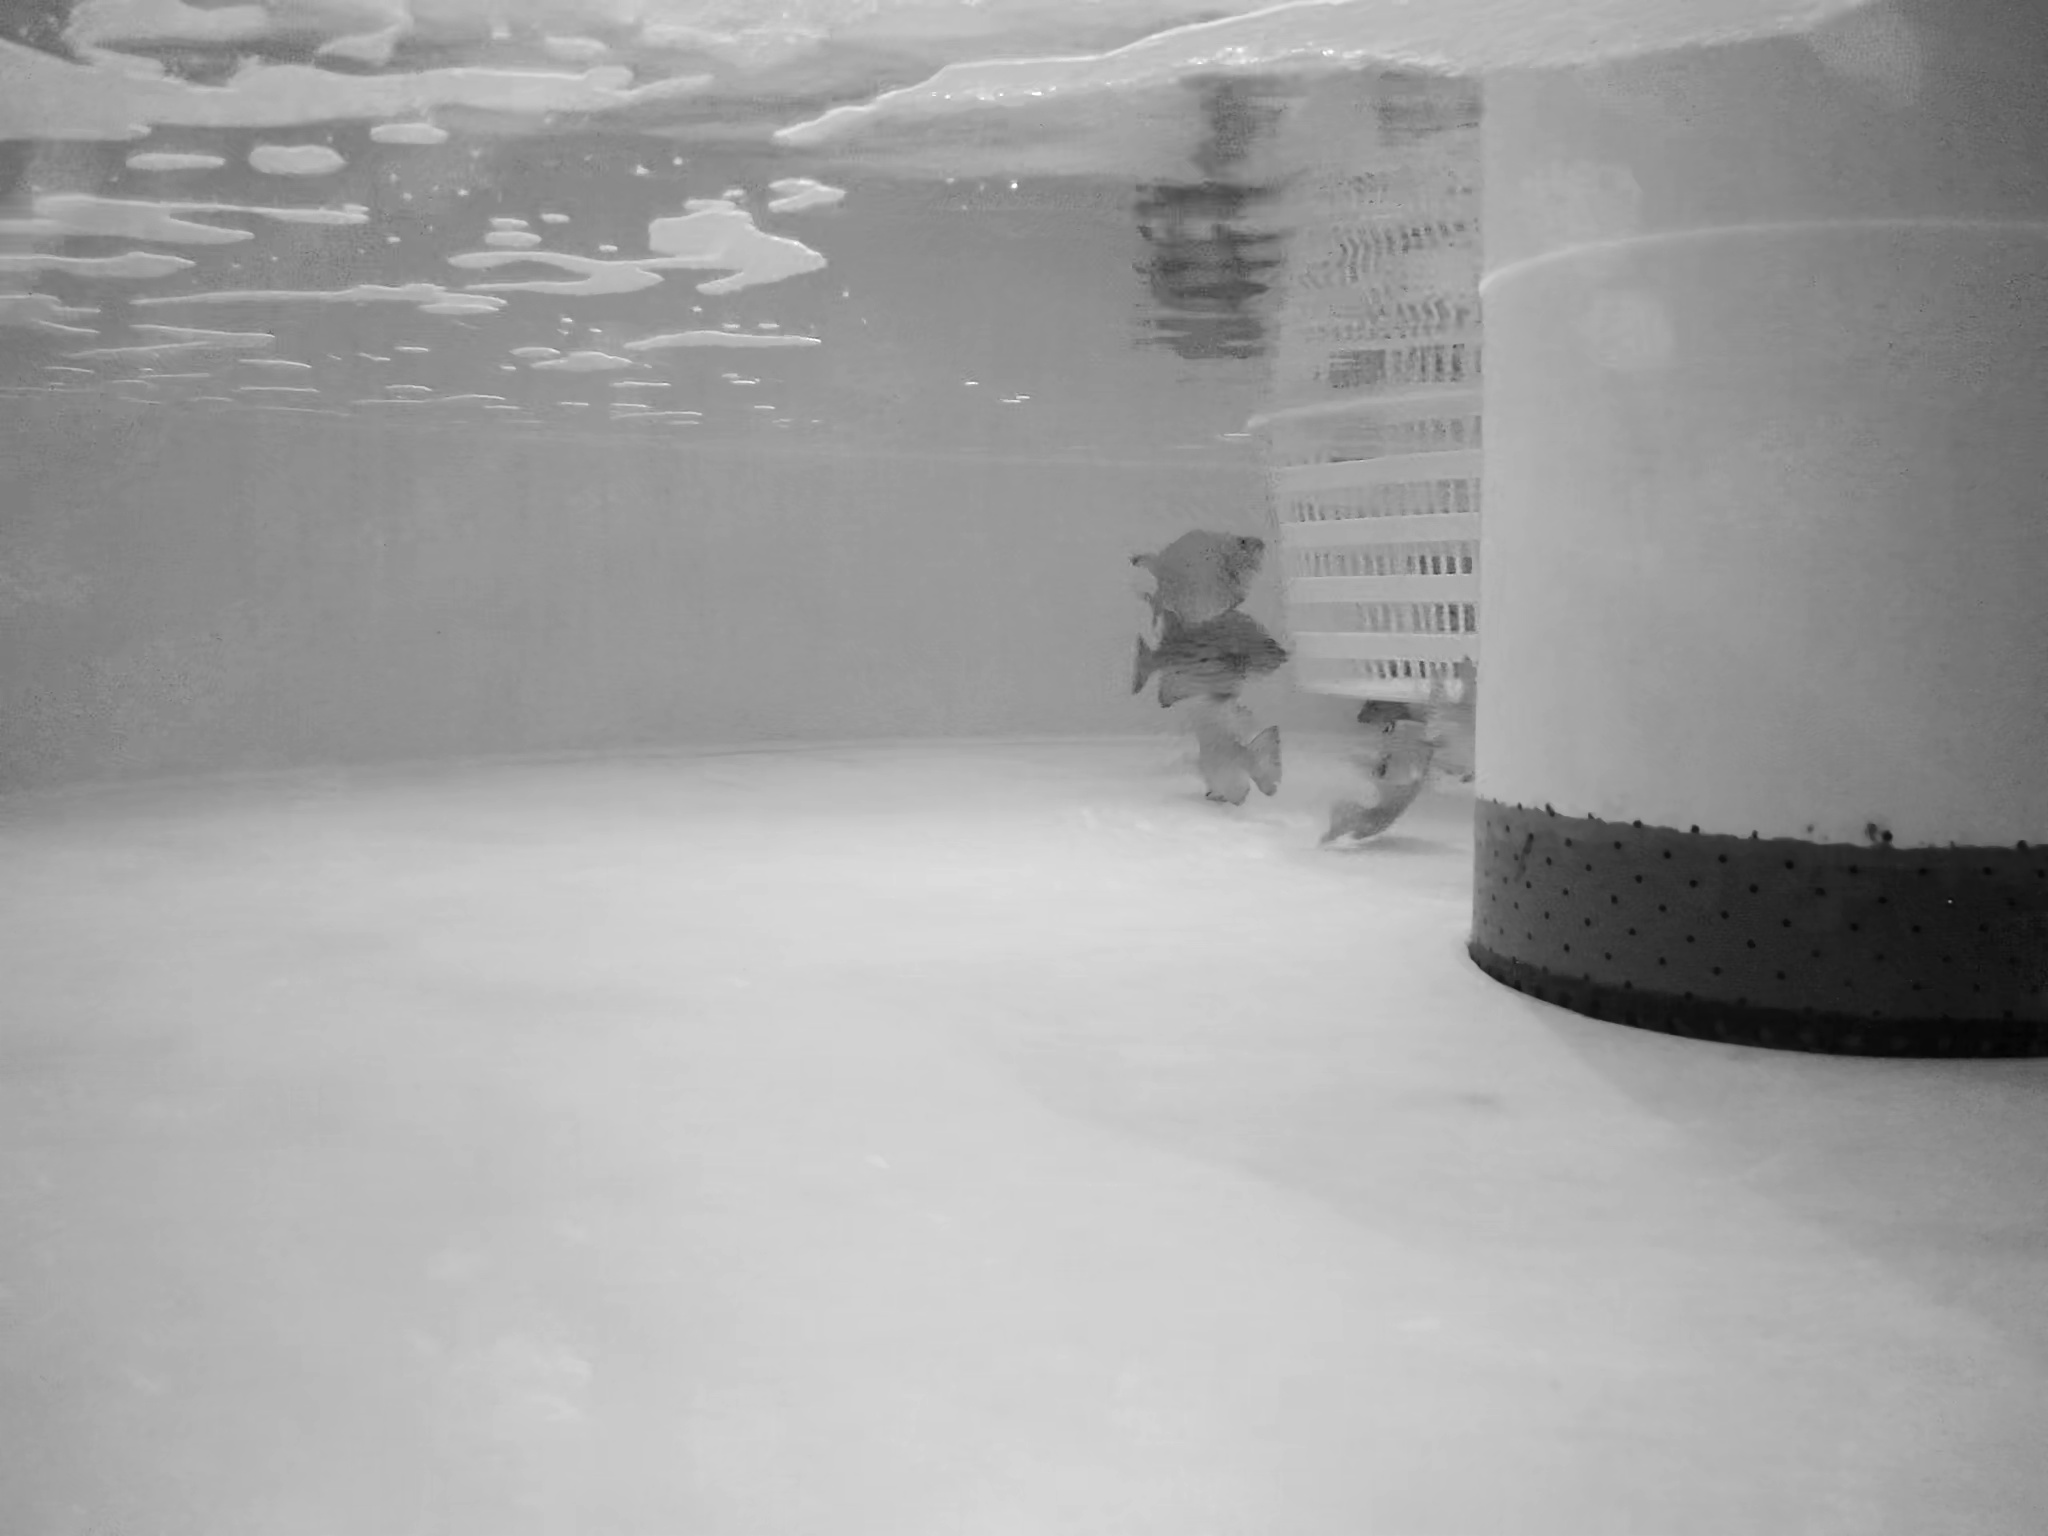fish: (1313, 720, 1434, 849), (1127, 610, 1284, 703), (1137, 524, 1274, 620), (1190, 700, 1293, 812), (1376, 670, 1479, 781)
